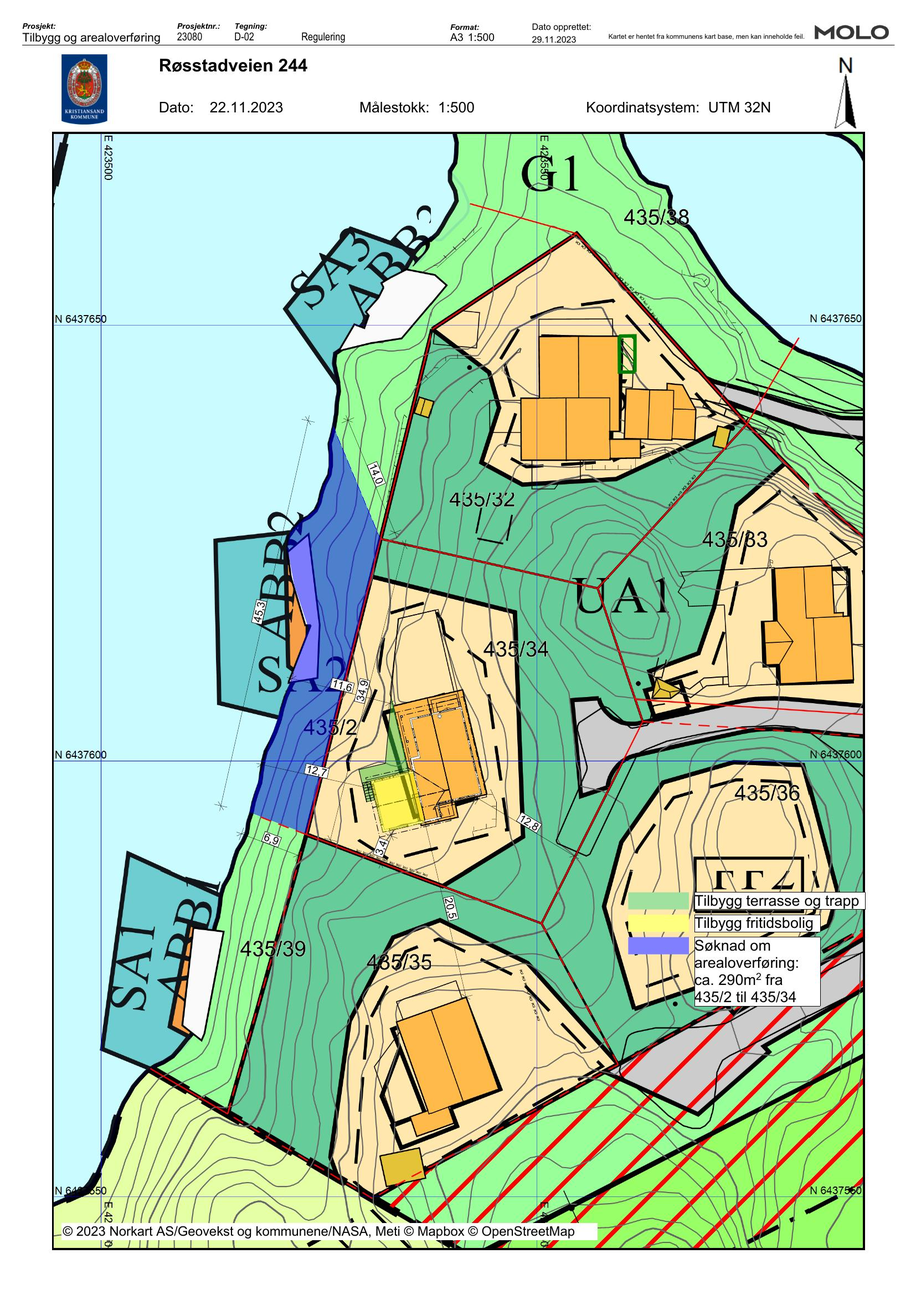situasjonskart: (51, 134, 861, 1250)
